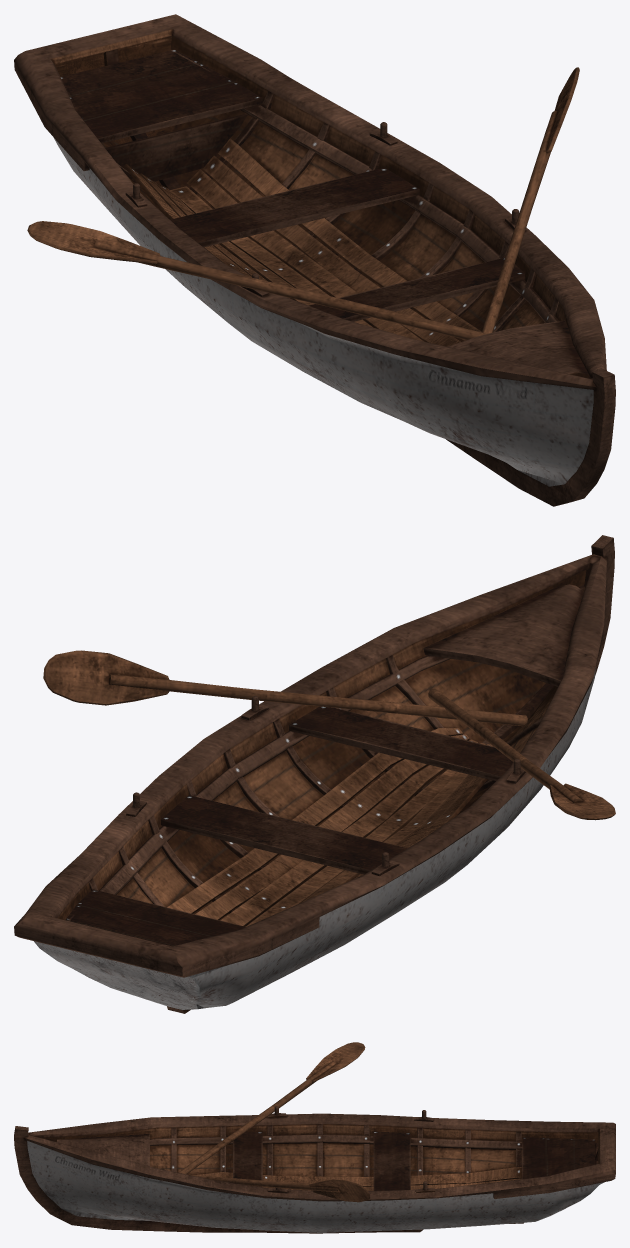
Rendered from rowing_boat.glb.
3 renders of one model, top to bottom at view 1: azimuth 30°, elevation 25°; view 2: azimuth 150°, elevation 25°; view 3: azimuth 270°, elevation 25°, orthographic. The views are drawn at different scales.
Parts seen in each view (by area): view 1: body_low, seat_back_low, seat_centre_low, oar_low1, pCube39_low, pCube34_low, seat_front_low, front_cover_low, pCube33_low, pCube32_low, oar_low, pCube28_low (+4 smaller); view 2: body_low, oar_low, front_cover_low, seat_centre_low, seat_front_low, seat_back_low, pCube34_low, pCube33_low, pCube32_low, oar_low1, pCube28_low, pCube29_low (+5 smaller); view 3: body_low, seat_back_low, seat_centre_low, oar_low1, pCube30_low, front_cover_low, oar_low, seat_front_low, pCube31_low.
Boxes of the visible parts, x1,y1,x2,y2 form: body_low: [14, 14, 615, 506]; seat_back_low: [60, 49, 262, 143]; seat_centre_low: [170, 167, 419, 247]; oar_low1: [27, 221, 487, 339]; pCube39_low: [105, 113, 247, 181]; pCube34_low: [218, 138, 481, 341]; seat_front_low: [308, 257, 524, 321]; front_cover_low: [447, 320, 590, 378]; pCube33_low: [203, 155, 460, 346]; pCube32_low: [187, 169, 423, 341]; oar_low: [481, 67, 579, 333]; pCube28_low: [170, 186, 372, 327]; body_low: [14, 535, 614, 1013]; oar_low: [43, 650, 527, 726]; front_cover_low: [423, 584, 583, 686]; seat_centre_low: [161, 795, 407, 874]; seat_front_low: [289, 706, 513, 780]; seat_back_low: [65, 889, 245, 946]; pCube34_low: [167, 728, 463, 913]; pCube33_low: [195, 734, 469, 919]; pCube32_low: [220, 739, 478, 926]; oar_low1: [428, 689, 615, 820]; pCube28_low: [246, 743, 485, 926]; pCube29_low: [302, 744, 492, 902]; body_low: [14, 1113, 615, 1233]; seat_back_low: [522, 1137, 595, 1178]; seat_centre_low: [373, 1131, 410, 1190]; oar_low1: [178, 1042, 365, 1174]; pCube30_low: [195, 1167, 522, 1186]; front_cover_low: [57, 1133, 149, 1166]; oar_low: [188, 1174, 370, 1202]; seat_front_low: [233, 1132, 262, 1187]; pCube31_low: [263, 1178, 521, 1190].
Size of the model in its own units: 685 by 244 by 1090.
Materials: 1 (1 with a texture image).
